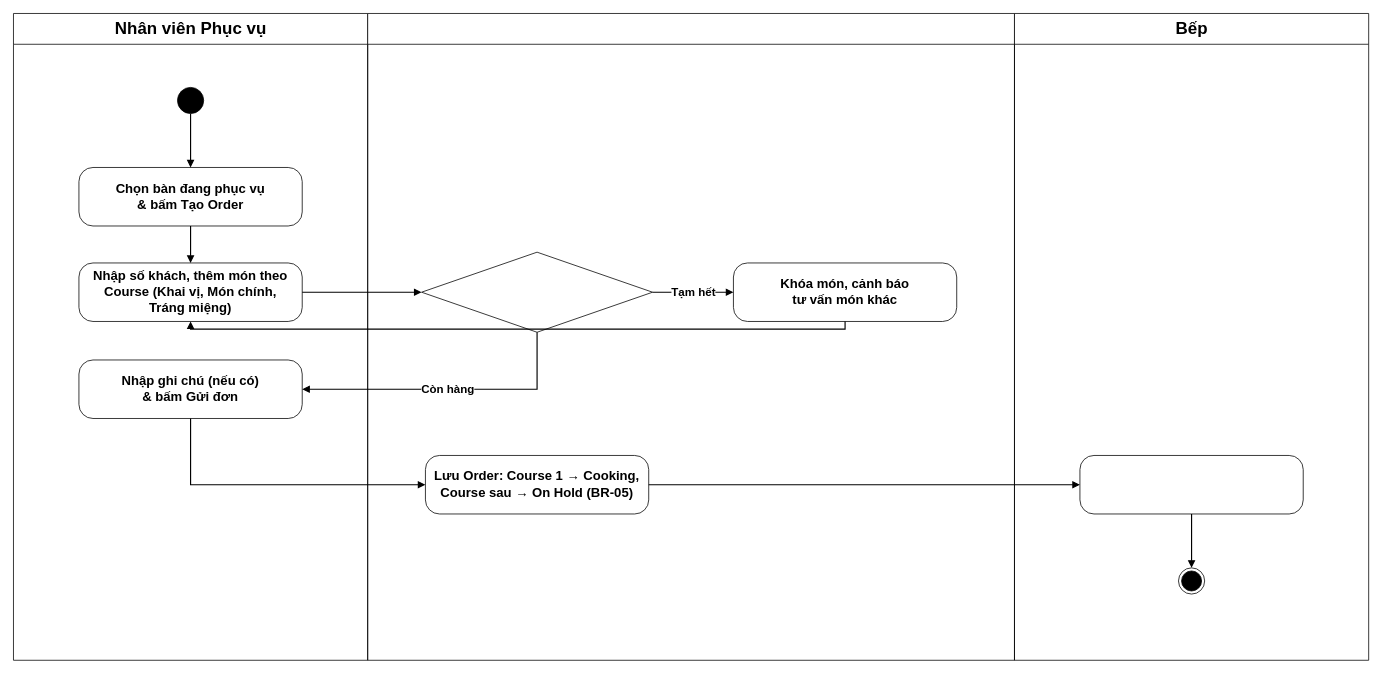
The diagram is 1382 pixels wide and 674 high, and some of its shapes have lost their labels. The shapes that lost their labels are listed below. From the top down, each one's box as (x1, y1, x2, y2) in pixels, then its label:
(421, 251, 653, 332): Món còn hàng?
(367, 13, 1014, 660): Hệ thống
(1079, 455, 1303, 514): Nhận Course 1 trên KDS & chế biến
